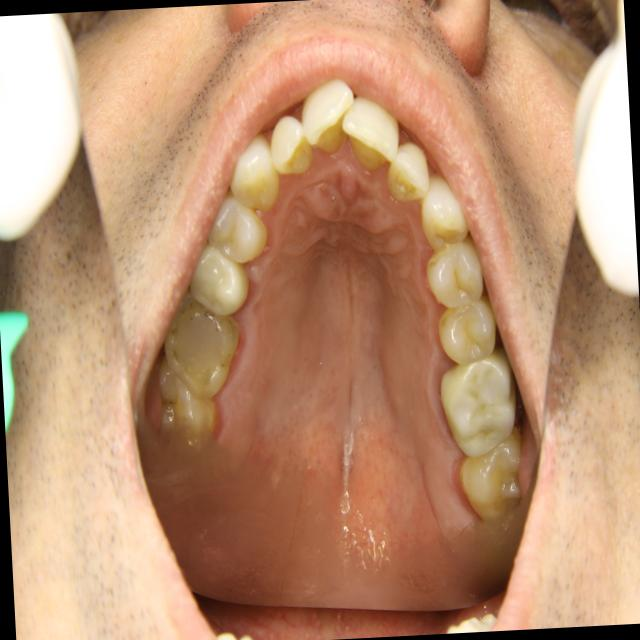tooth: (154, 277, 249, 409), (431, 348, 528, 466), (143, 354, 232, 464), (446, 423, 533, 520), (336, 77, 404, 186), (417, 224, 493, 316), (431, 291, 507, 376), (183, 237, 257, 320), (202, 184, 274, 269), (222, 125, 283, 221), (297, 73, 359, 165), (414, 167, 473, 257), (381, 132, 436, 212), (265, 102, 315, 187)
